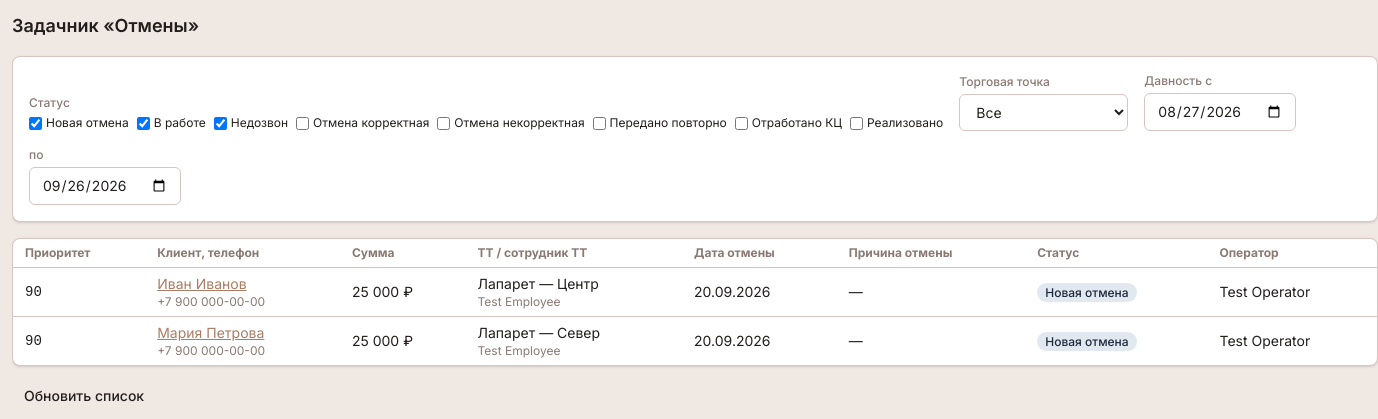
cancellation task list › filters loaded tasks by trade point
Expected: the link "Иван Иванов" is shown, [157,275,247,292]
Expected: the link "Мария Петрова" is shown, [157,324,264,341]
Select "Лапарет — Север" in the dropdown: x=1044, y=112 [959,94,1128,131]
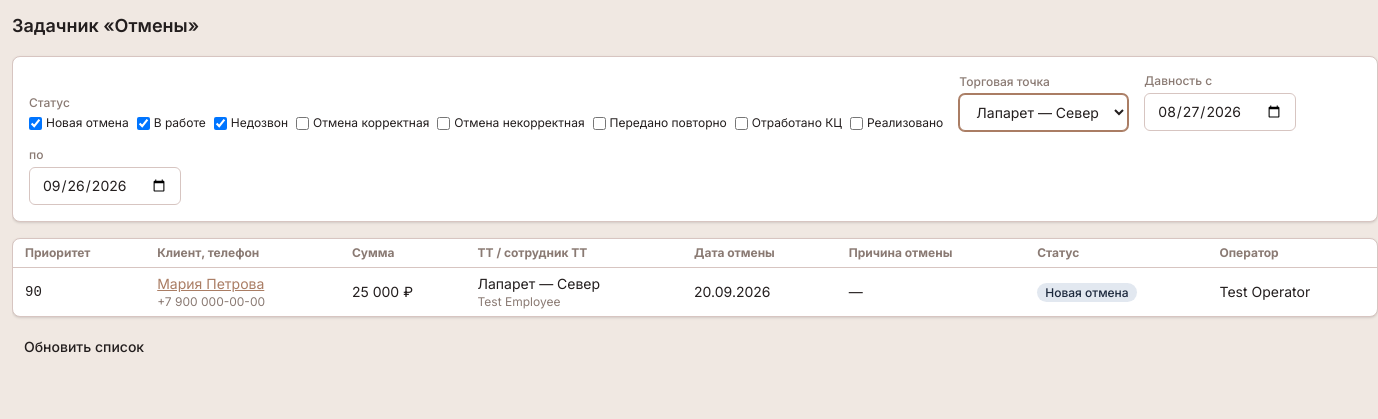
Expected: the link "Мария Петрова" is shown, [157,275,264,292]
Expected: the link "Иван Иванов" is gone
